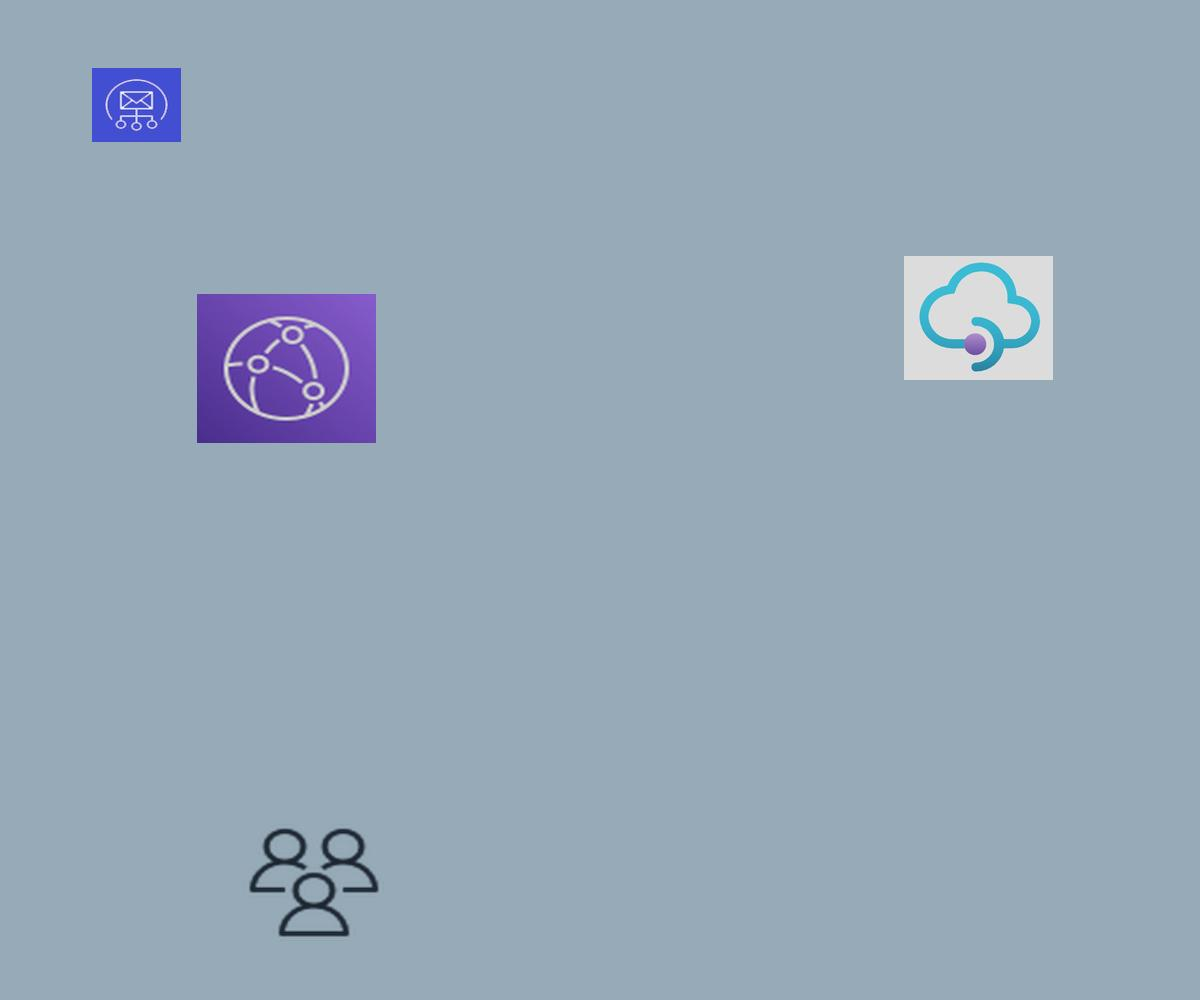AWS-CloudFront: (197, 294, 376, 443)
AWS-Res_Users: (244, 824, 384, 941)
AWS-Simple-Email-Service: (92, 68, 181, 142)
Azure_api_gateway: (904, 256, 1053, 380)
